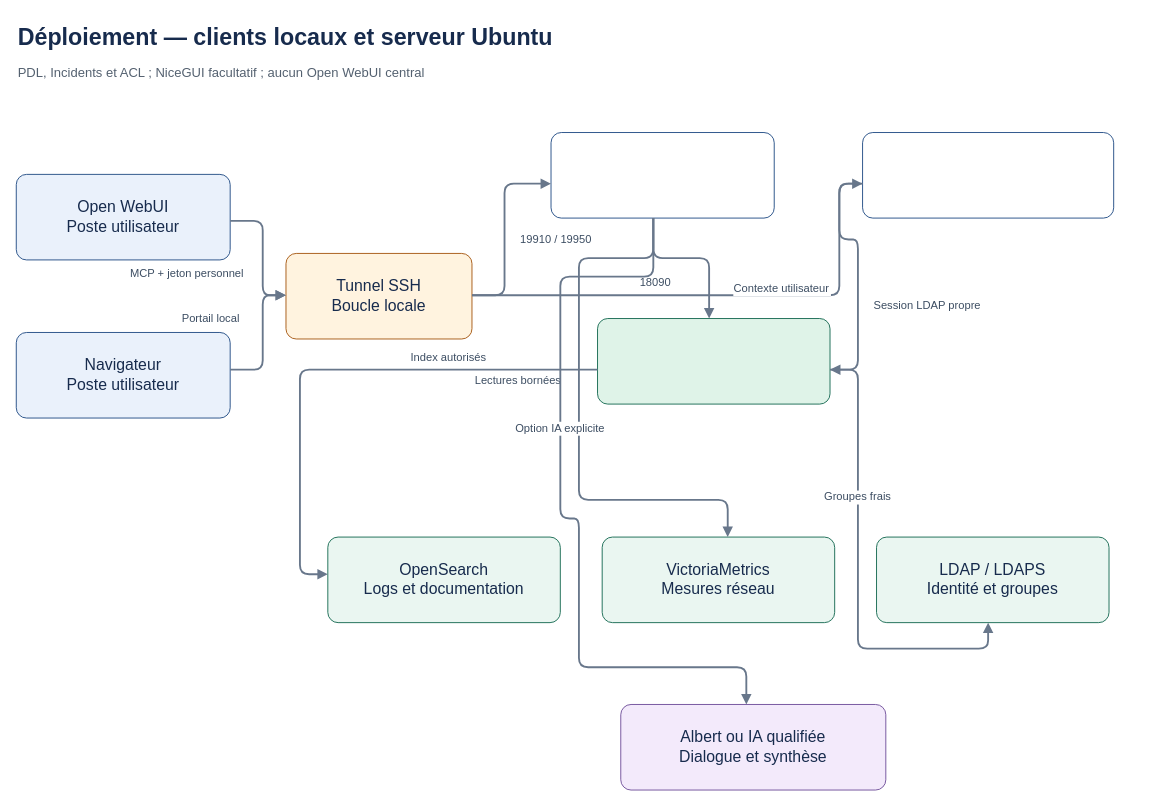
This 1158x806 diagram has some shape labels left out. Here are the shapes that lost their labels. From the top down, the box of each, then its label:
(550, 132, 774, 218): Moteurs MCP PDL + Incidents
(862, 132, 1114, 218): NiceGUI facultatif Démo et administration
(597, 318, 830, 404): Identité + ACL Vérifications serveur
